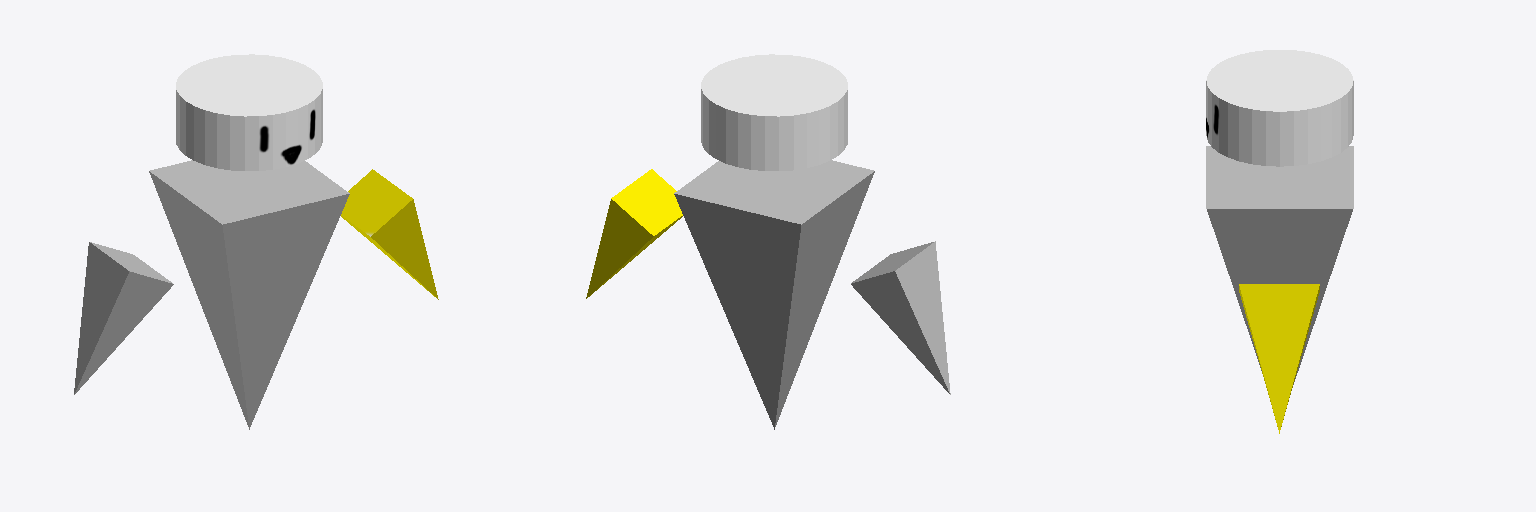
3 renders of one model, left to right at view 1: azimuth 30°, elevation 25°; view 2: azimuth 150°, elevation 25°; view 3: azimuth 270°, elevation 25°, orthographic.
Parts seen in each view (by area): view 1: 立方体, 円柱, 立方体.002, 立方体.001; view 2: 立方体, 円柱, 立方体.002, 立方体.001; view 3: 立方体, 円柱, 立方体.001.
Part boxes in pixels (x1,y1,x2,y2): 立方体: (149,160,349,429); 円柱: (176,54,322,170); 立方体.002: (74,242,173,394); 立方体.001: (341,169,438,299); 立方体: (674,160,874,429); 円柱: (701,54,847,170); 立方体.002: (851,241,950,394); 立方体.001: (586,169,682,298); 立方体: (1206,146,1353,384); 円柱: (1206,50,1353,166); 立方体.001: (1239,284,1319,433).
Bounding box in the file's own units: 5.72 × 5.16 × 2.
4 materials, 2 textured.